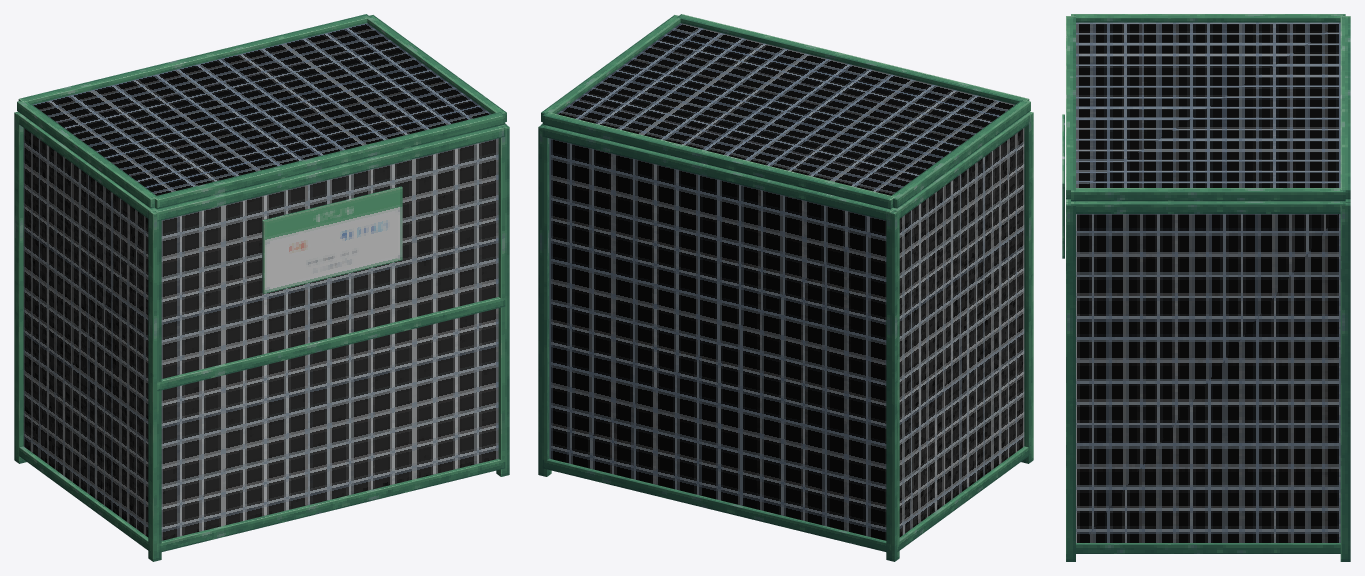
Rendered from recycle_cage_own.glb.
3 renders of one model, left to right at view 1: azimuth 30°, elevation 25°; view 2: azimuth 150°, elevation 25°; view 3: azimuth 270°, elevation 25°, orthographic. The views are drawn at different scales.
Visible parts, largest first — view 1: mesh; view 2: mesh; view 3: mesh.
Boxes of the visible parts, x1=… form: mesh: x1=14, y1=14, x2=509, y2=561; mesh: x1=538, y1=14, x2=1033, y2=561; mesh: x1=1062, y1=14, x2=1350, y2=561.
Size of the model in its own units: 0.922 by 0.891 by 0.63.
1 material, 1 textured.
